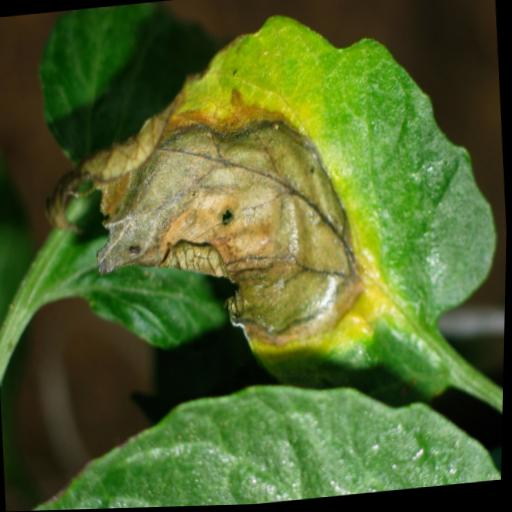Late Blight: (31, 0, 512, 439)
